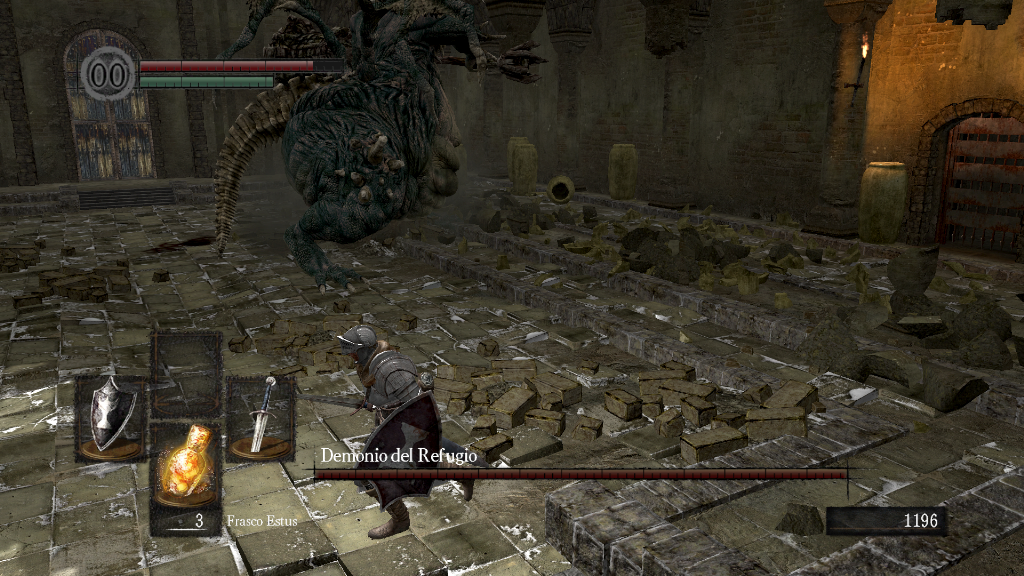asylumDemon: (214, 1, 551, 289)
bossHP: (314, 469, 847, 479)
health: (138, 58, 343, 71)
humanity: (80, 45, 136, 102)
player: (284, 327, 476, 541)
souls: (825, 506, 945, 536)
stamina: (138, 74, 274, 88)
